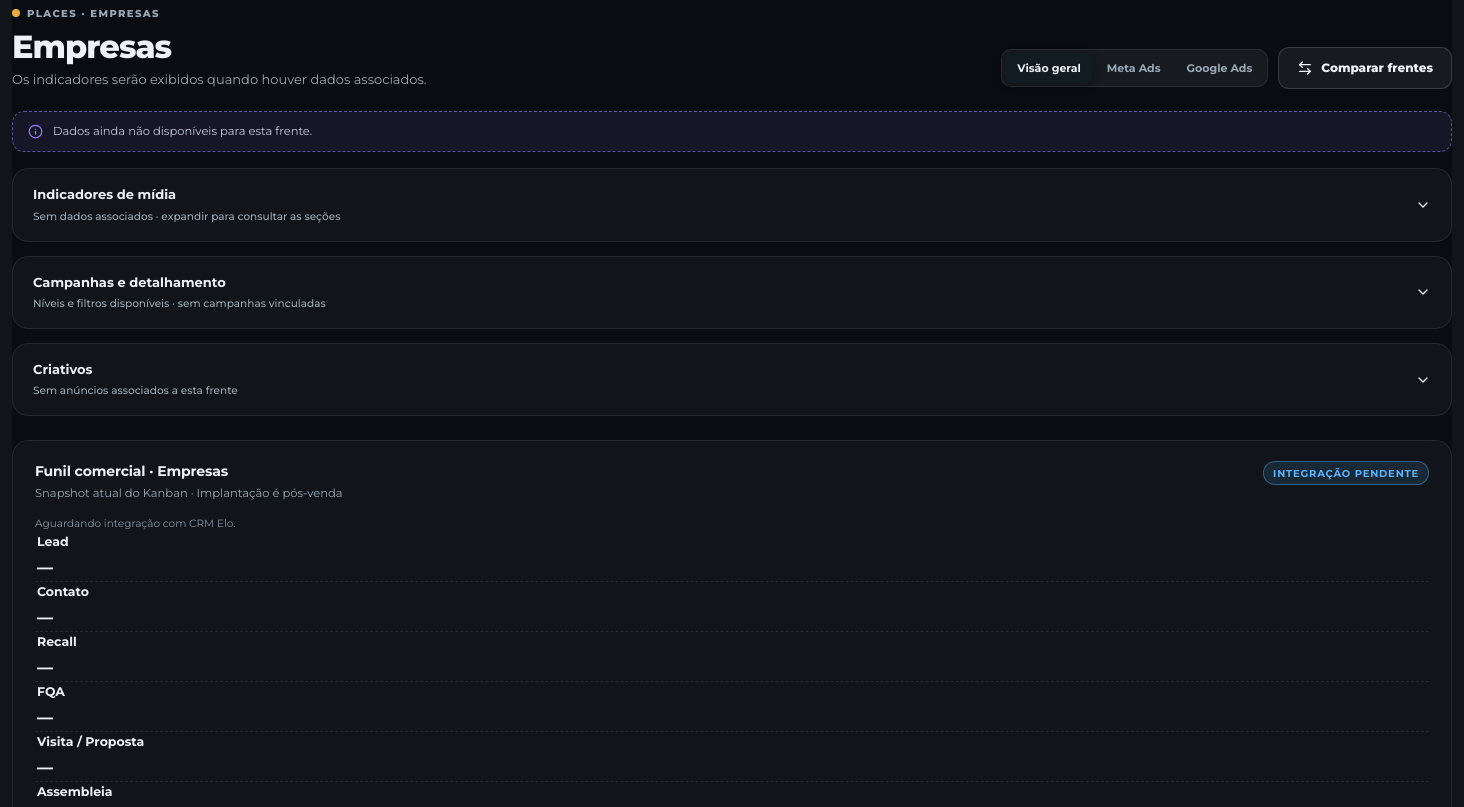
Test: modo Comparar frentes › abre em company sem criar uma nova página
Click the button "Comparar frentes": (1365, 68) [1278, 47, 1452, 89]
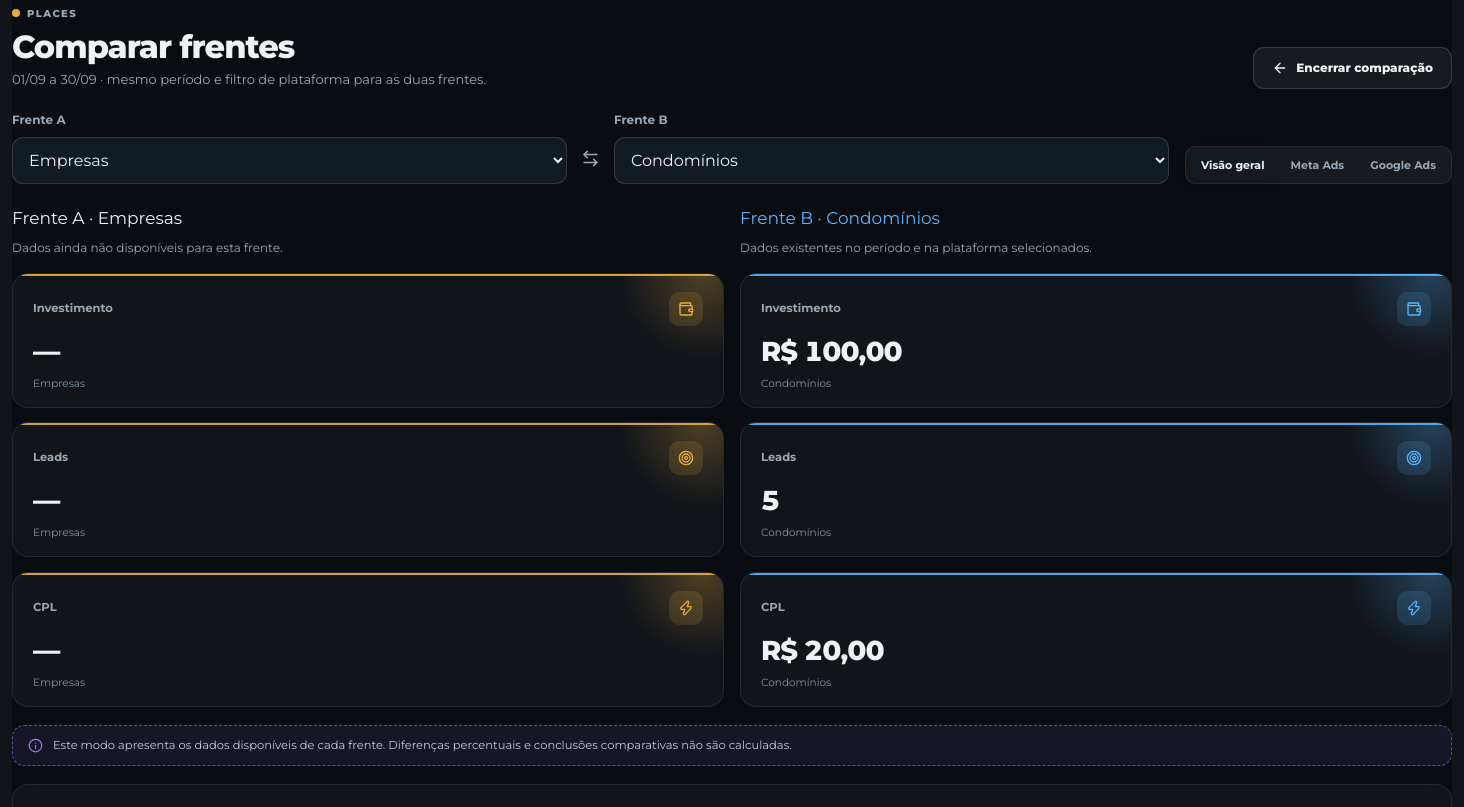
Now the dropdown labelled "Frente A" shows "Empresas", box [12, 137, 567, 184]
Now the dropdown labelled "Frente B" shows "Condomínios", box [614, 137, 1169, 184]
